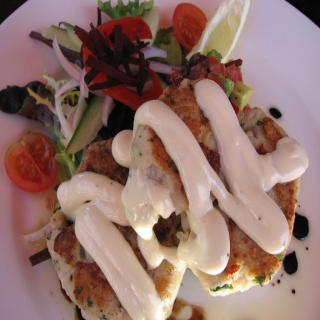tomato: (5, 135, 64, 197), (173, 2, 207, 49)
